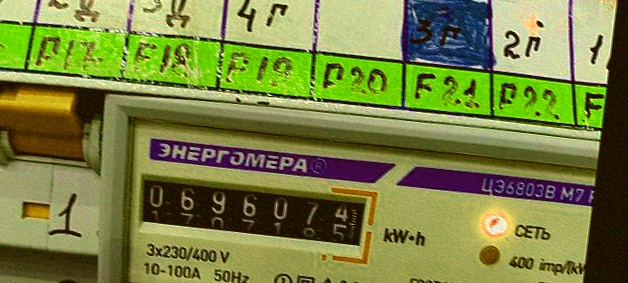0: (145, 180, 166, 207), (270, 192, 289, 220)
4: (333, 199, 349, 221)
5: (330, 220, 346, 241)
6: (239, 188, 259, 217), (176, 183, 197, 210)
7: (301, 197, 320, 225)
9: (208, 187, 228, 214)
screen: (127, 158, 381, 264)
